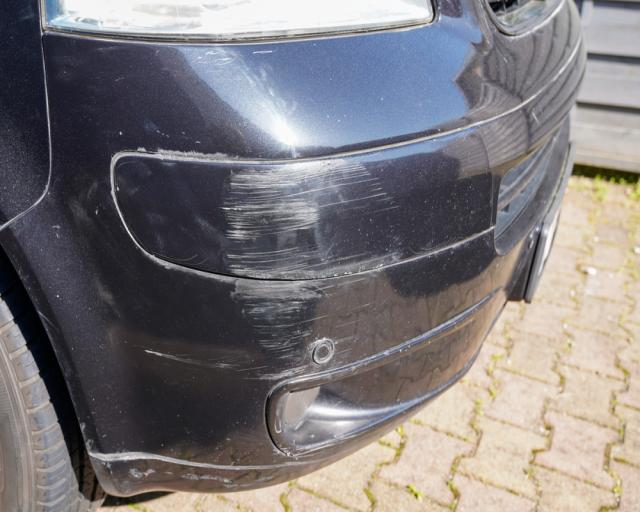scratch: (144, 157, 408, 384)
